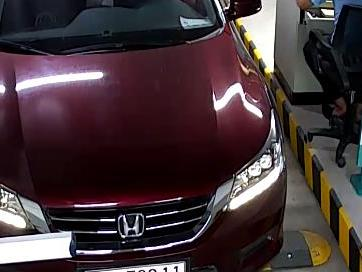number: (84, 264, 186, 272)
